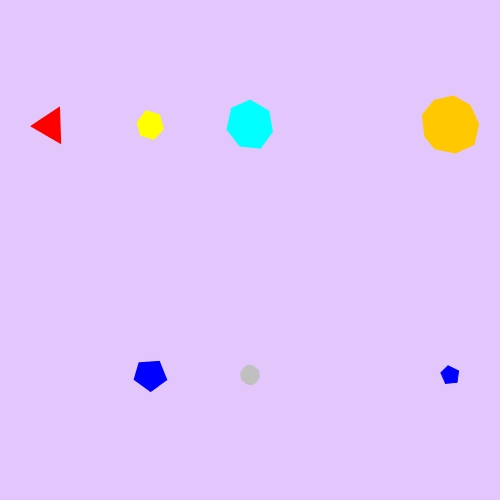decagon: (235, 361, 265, 389)
heptagon: (222, 98, 278, 152)
hexagon: (131, 109, 169, 142)
nonagon: (417, 94, 483, 157)
pentagon: (130, 355, 170, 395), (436, 361, 464, 389)
triangle: (30, 104, 70, 146)
